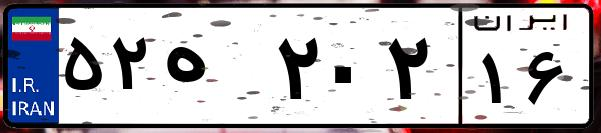0: (330, 28, 385, 110)
1: (475, 38, 525, 113)
2: (270, 28, 330, 110), (385, 28, 445, 110), (110, 28, 158, 98)
5: (57, 26, 110, 100)
6: (525, 38, 570, 115)
ه: (158, 20, 270, 120)
